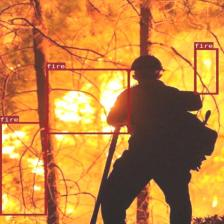fire: (46, 68, 129, 134), (0, 121, 46, 215), (194, 48, 218, 94)
